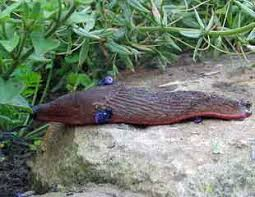slug: (32, 90, 251, 124)
